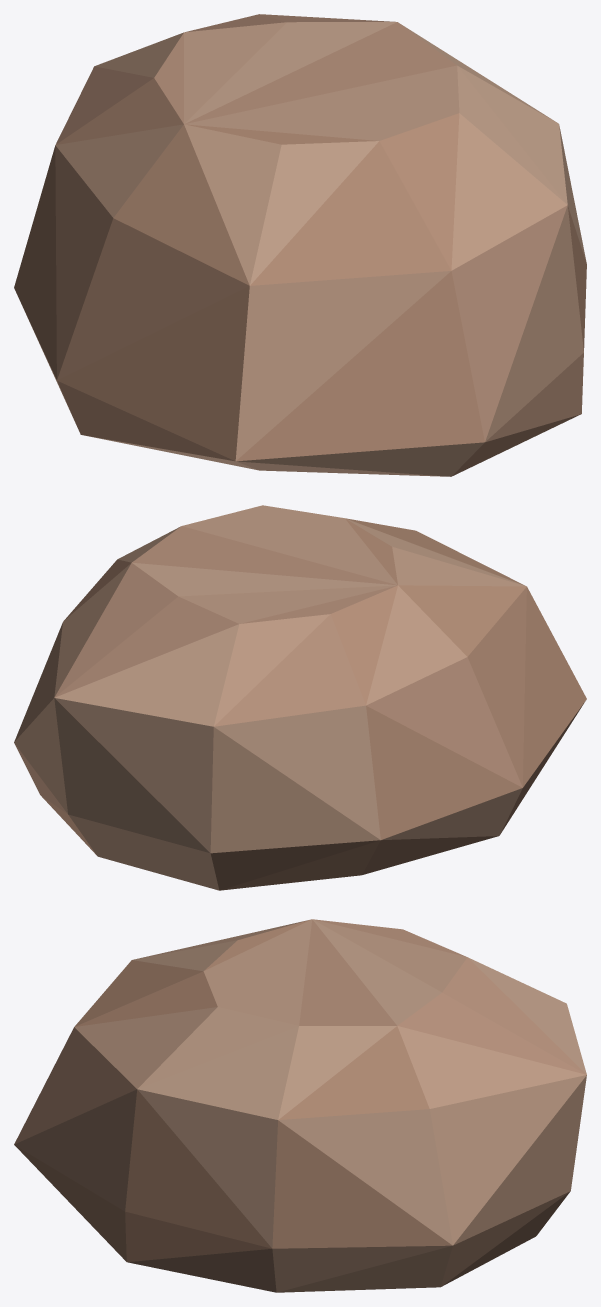
The model's file is 16_rock_large.glb.
3 renders of one model, top to bottom at view 1: azimuth 30°, elevation 25°; view 2: azimuth 150°, elevation 25°; view 3: azimuth 270°, elevation 25°, orthographic. The views are drawn at different scales.
Visible parts, largest first — view 1: ObstacleMesh; view 2: ObstacleMesh; view 3: ObstacleMesh.
Boxes of the visible parts, box(x1,y1,x2,y2) form: ObstacleMesh: box(14, 14, 586, 476); ObstacleMesh: box(14, 505, 586, 890); ObstacleMesh: box(14, 919, 586, 1292).
Bounding box in the file's own units: 2.24 × 1.15 × 2.62.
